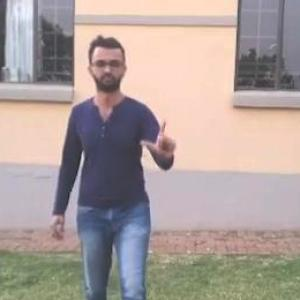land_hand: (137, 113, 180, 164)
